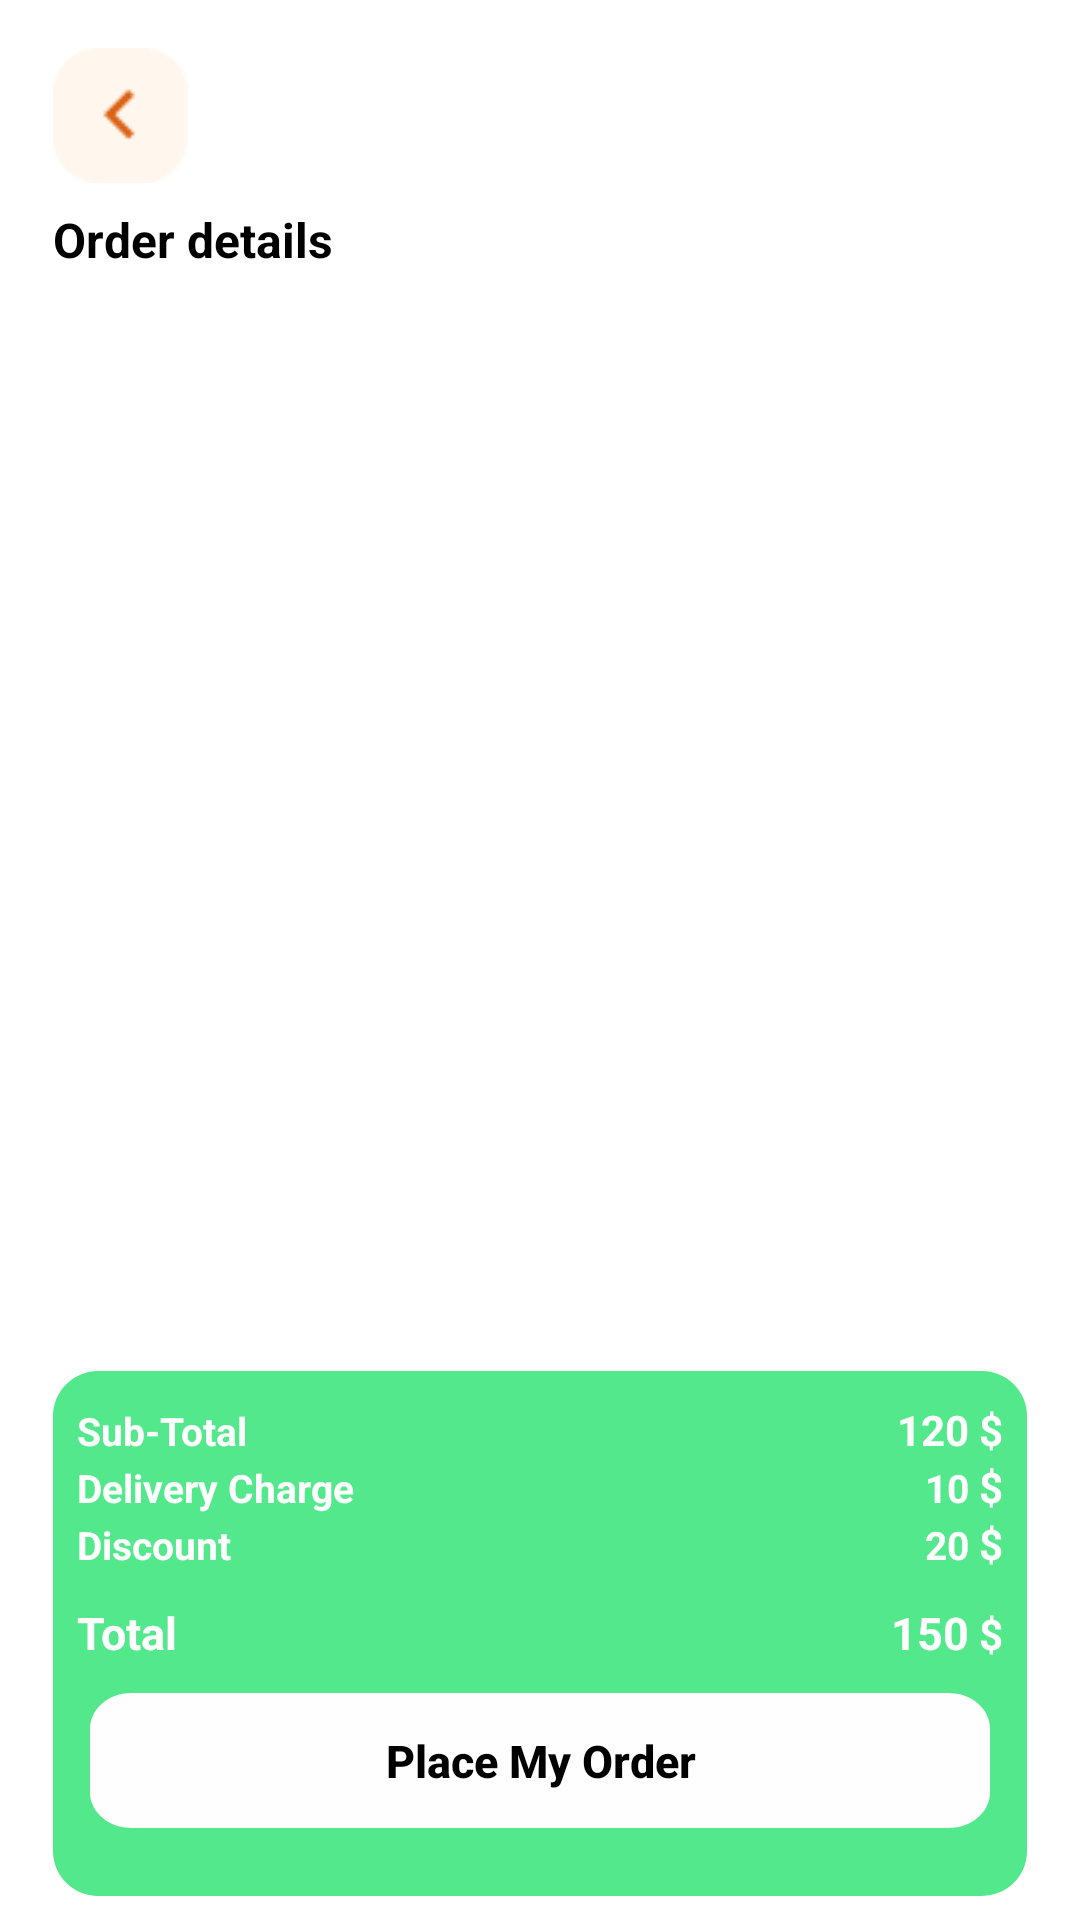

Icons on this 1080 x 1920 Android screen, each with its box as (x1, y1, x2, y2):
iconback: (103, 89, 135, 141)
